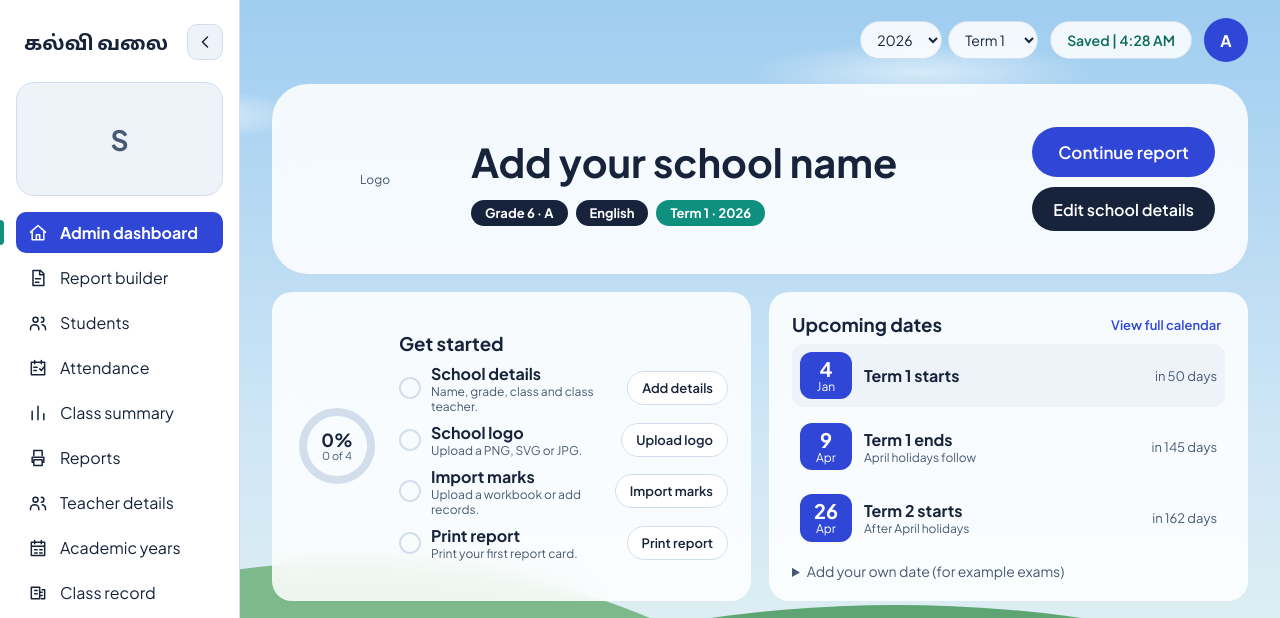
it: auth and save behaviour › with auto-save off the marks table is only stored when Save is pressed
Click the button "Report builder".
click(120, 278)  # box [16,257,223,298]
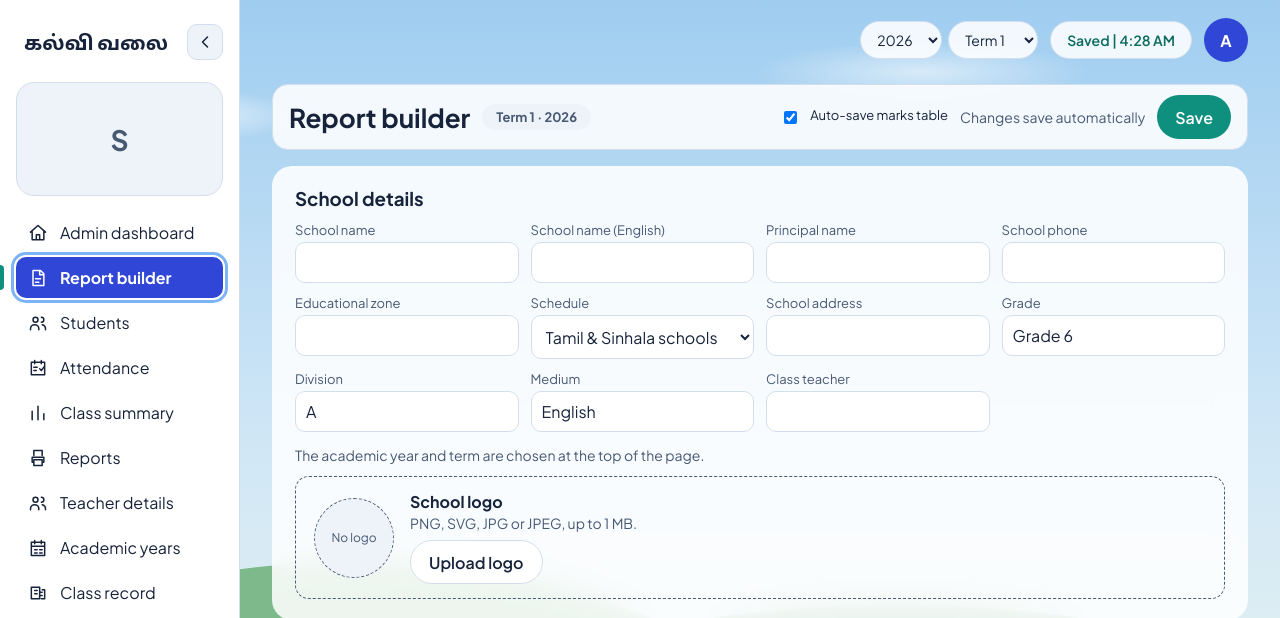
Click the checkbox labelled "Auto-save marks table".
click(791, 118)  # box [784,111,797,124]
(page scrolled)
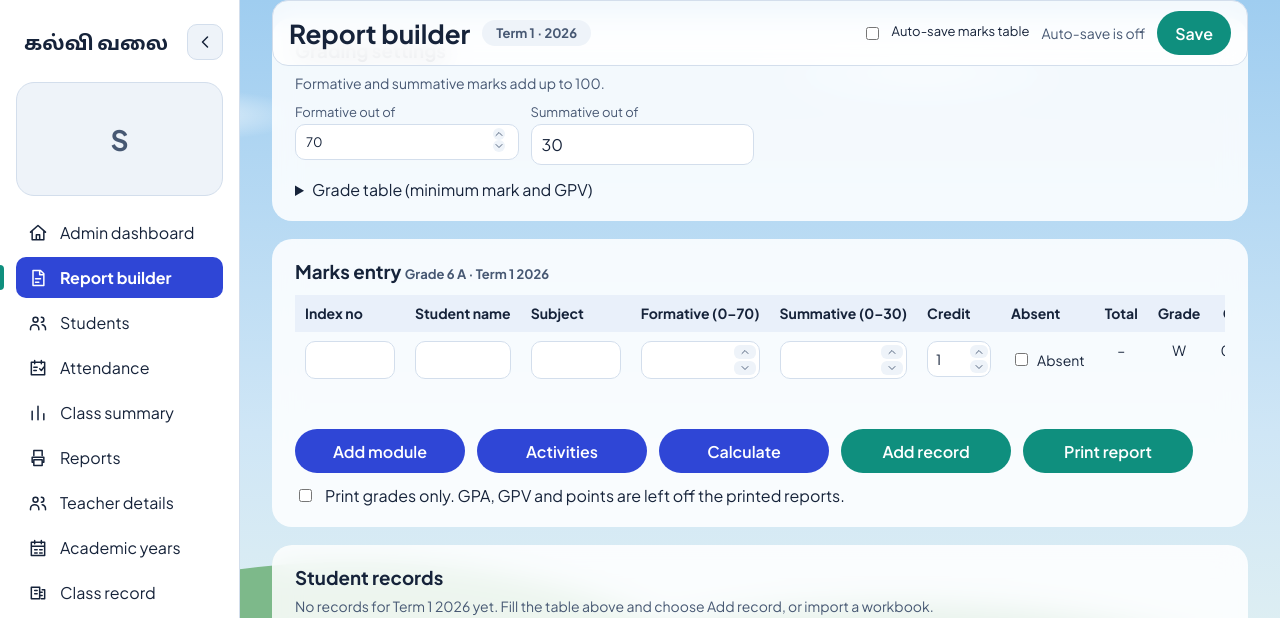
Type "Science" into the field named "Subject".
click(576, 360); type("Science")  # box [531,341,621,379]
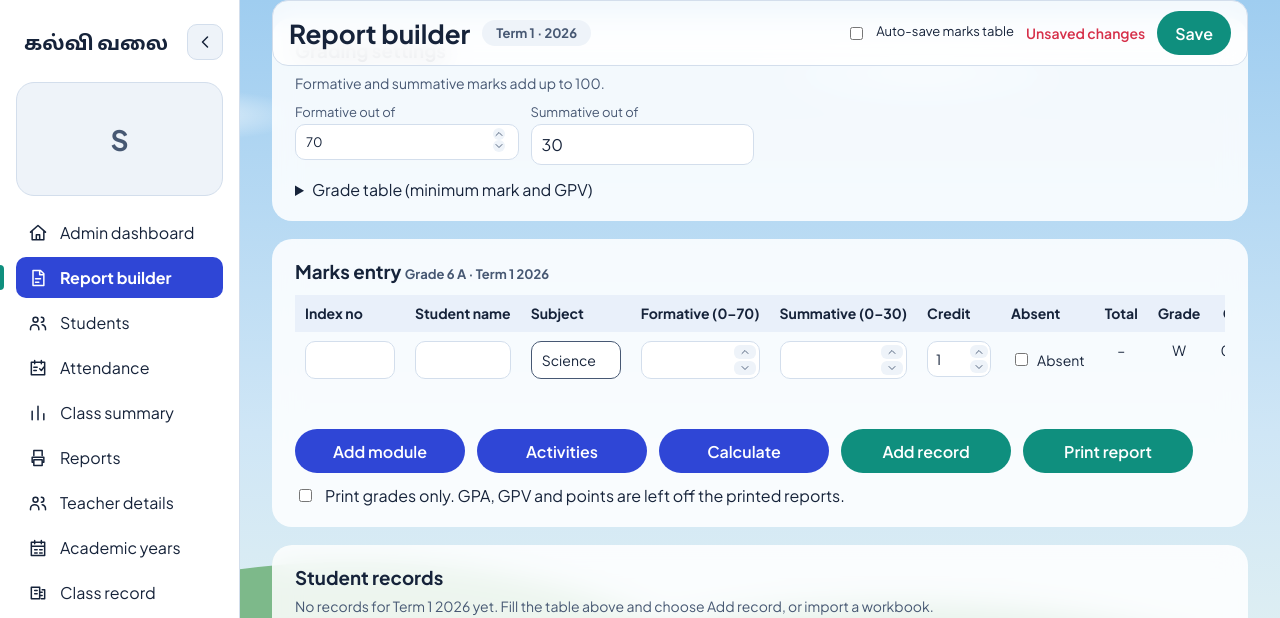
Check: the text "Unsaved changes" is shown, box [1026,24,1145,42]
Click the button "Save".
click(1194, 33)  # box [1157,11,1231,55]
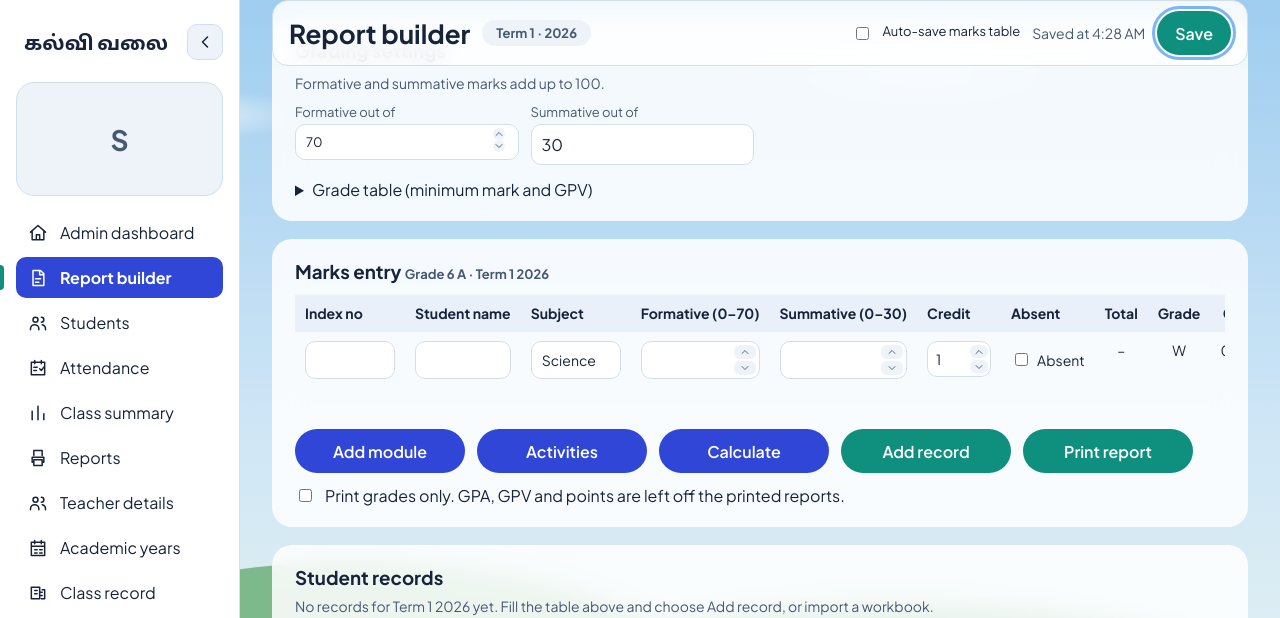
Check: the text "Unsaved changes" is gone
